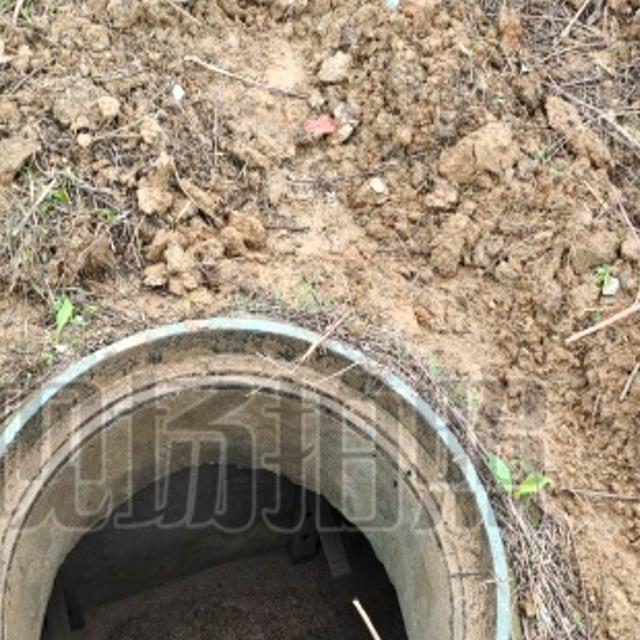lose: (0, 303, 524, 640)
